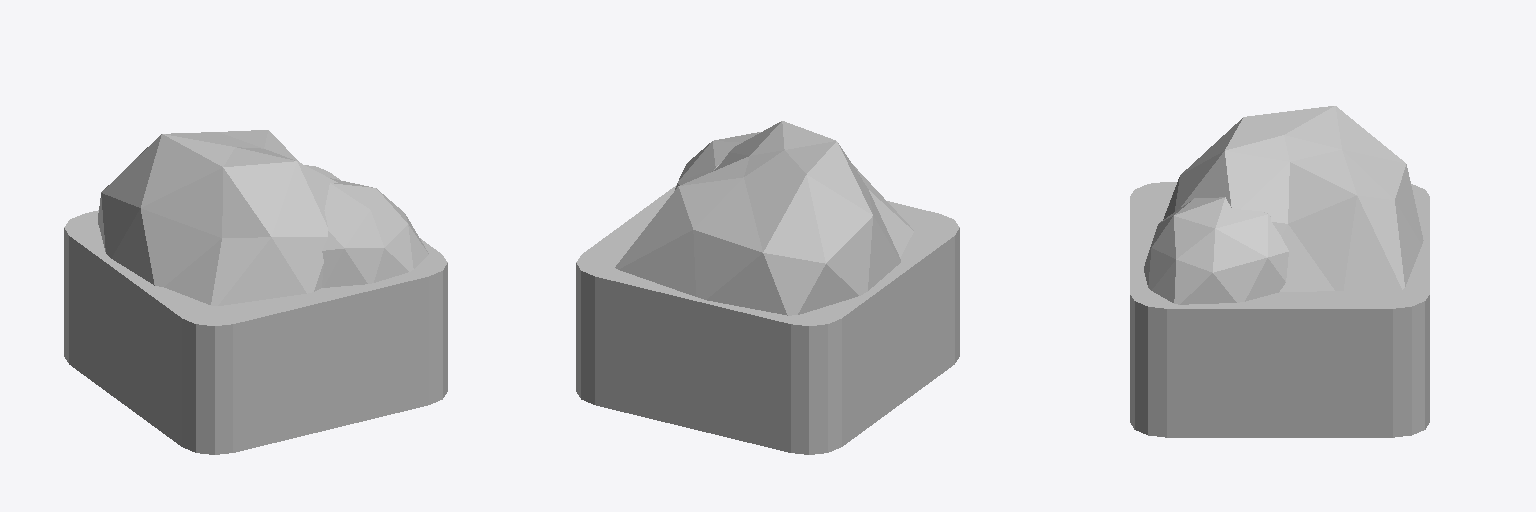
File: tile_boulder.obj
3 renders of one model, left to right at view 1: azimuth 30°, elevation 25°; view 2: azimuth 150°, elevation 25°; view 3: azimuth 270°, elevation 25°, orthographic.
Parts seen in each view (by area): view 1: Plane.001; view 2: Plane.001; view 3: Plane.001.
Boxes of the visible parts, <box> form: Plane.001: <box>64,130,447,454</box>; Plane.001: <box>576,121,959,454</box>; Plane.001: <box>1130,106,1429,437</box>.
Size of the model in its own units: 2 by 1.73 by 2.